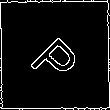P_NE: (24, 24, 86, 86)
